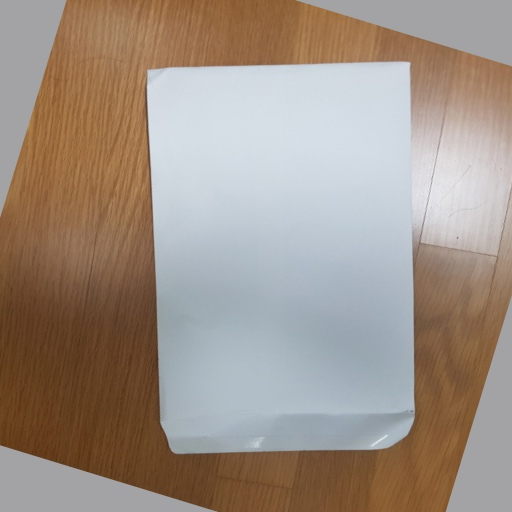Paper_2: (142, 60, 432, 467)
